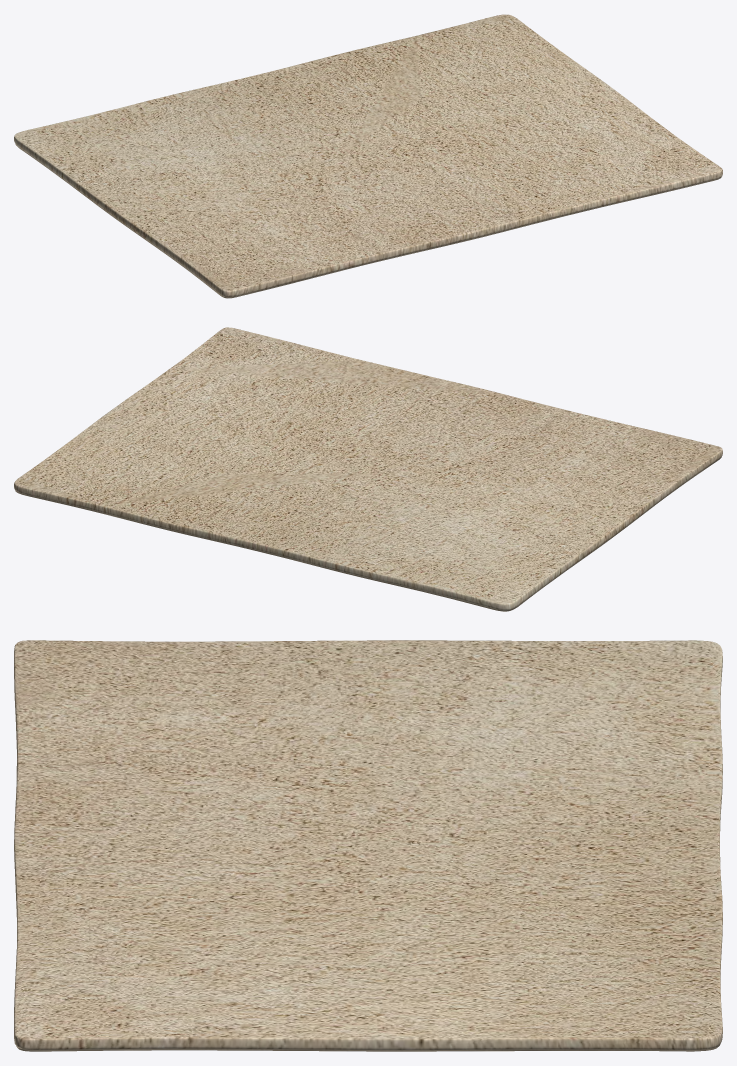
The picture shows the model from 3 angles, top to bottom: view 1: azimuth 30°, elevation 25°; view 2: azimuth 150°, elevation 25°; view 3: azimuth 270°, elevation 25°; orthographic projection. The views are drawn at different scales.
Parts seen in each view (by area): view 1: RootNode; view 2: RootNode; view 3: RootNode.
Part boxes in pixels (left/top/right/bottom): RootNode: left=14, top=14, right=722, bottom=298; RootNode: left=14, top=327, right=722, bottom=611; RootNode: left=14, top=640, right=722, bottom=1051.
Size of the model in its own units: 1.6 by 0.0248 by 1.2.
1 material, 1 textured.
